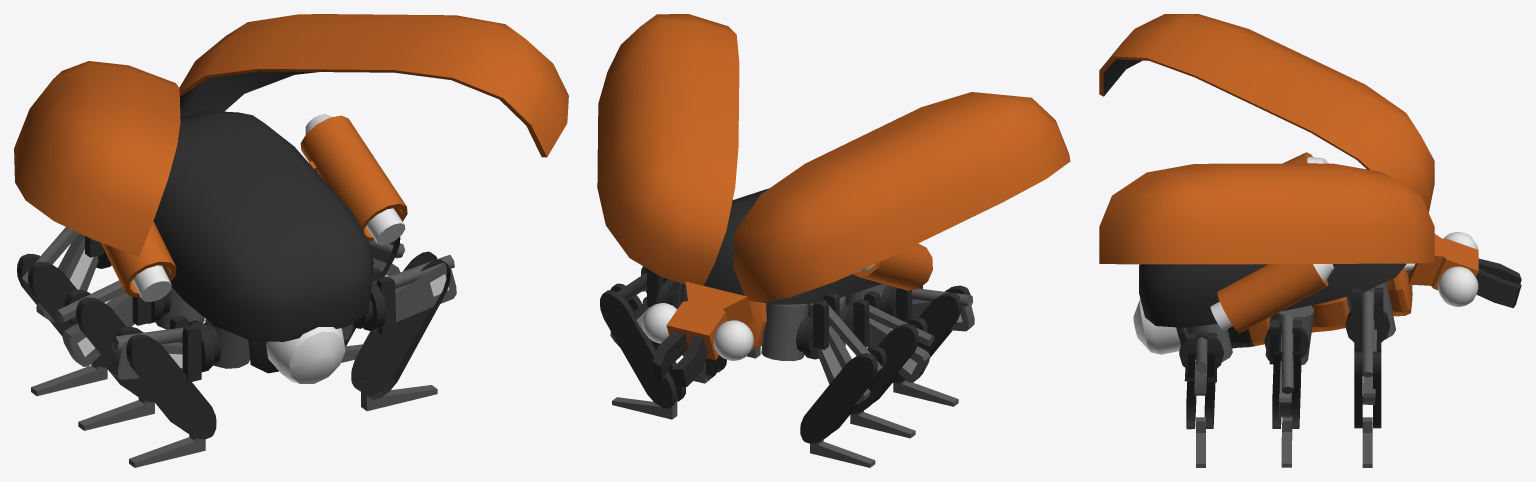
File: FodderModel.fbx
3 views of the same model, side by side, from view 1: azimuth 30°, elevation 25°; view 2: azimuth 150°, elevation 25°; view 3: azimuth 270°, elevation 25° (orthographic). The views are drawn at different scales.
Parts seen in each view (by area): view 1: Cube.042, Cube.035, Cylinder.050, Plane.006, Plane.003, Cylinder.046, Plane.005, Plane.001, Cube.036, Cube.005, Cube.001, Cube.017 (+15 smaller); view 2: Cube.042, Plane.002, Plane.001, Cube.039, Cube.035, Sphere, Cylinder.050, Cube.043, Plane.005, Cylinder.001, Plane.006, Cube.005 (+15 smaller); view 3: Cube.042, Cube.035, Cylinder.050, Cube.031, Cube.039, Cube.043, Sphere, Plane.003, Plane.002, Cylinder.046, Plane.004, Cylinder.039 (+14 smaller).
Boxes of the visible parts, x1,y1,x2,y2 form: Cube.042: (14,14,568,256); Cube.035: (153,110,373,341); Cylinder.050: (101,114,407,301); Plane.006: (116,326,216,439); Plane.003: (351,251,450,399); Cylinder.046: (266,327,345,383); Plane.005: (64,289,154,402); Plane.001: (17,253,105,367); Cube.036: (374,258,456,330); Cube.005: (62,292,134,366); Cube.001: (36,233,98,322); Cube.017: (170,315,201,382); Cube.042: (597,14,1070,302); Plane.002: (600,283,685,408); Plane.001: (800,346,886,443); Cube.039: (666,281,753,360); Cube.035: (704,188,882,304); Sphere: (642,303,753,360); Cylinder.050: (853,243,932,290); Cube.043: (652,331,707,386); Plane.005: (850,317,927,414); Cylinder.001: (761,303,808,361); Plane.006: (892,285,970,383); Cube.005: (868,318,930,382); Cube.042: (1099,14,1434,264); Cube.035: (1139,263,1406,327); Cylinder.050: (1210,152,1333,333); Cube.031: (1176,268,1412,348); Cube.039: (1408,234,1478,290); Cube.043: (1476,258,1521,308); Sphere: (1438,232,1478,306); Plane.003: (1186,351,1215,429); Plane.002: (1354,351,1381,428); Cylinder.046: (1133,299,1180,354); Plane.004: (1272,351,1301,428); Cylinder.039: (1362,291,1373,377).
Bounding box in the file's own units: 273 × 183 × 228.
